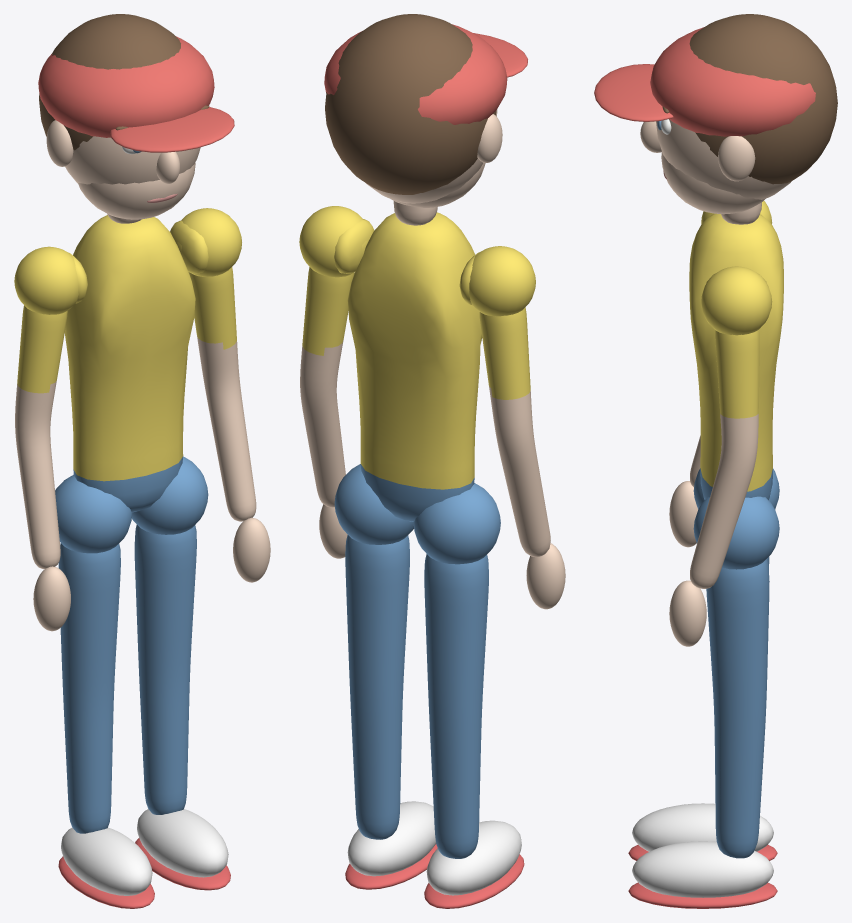
The model's file is kid.glb.
The picture shows the model from 3 angles, left to right: view 1: azimuth 30°, elevation 25°; view 2: azimuth 150°, elevation 25°; view 3: azimuth 270°, elevation 25°; orthographic projection. The views are drawn at different scales.
Parts seen in each view (by area): view 1: Body, Head, LegL, LegR, ArmL, ArmR; view 2: Body, Head, LegL, LegR, ArmL, ArmR; view 3: Head, LegR, ArmR, Body, LegL, ArmL.
Part boxes in pixels (<box>): Body: <box>64,215,208,512</box>; Head: <box>38,14,234,223</box>; LegL: <box>55,474,154,908</box>; LegR: <box>131,456,230,890</box>; ArmL: <box>14,246,78,631</box>; ArmR: <box>175,208,270,582</box>; Body: <box>334,212,482,521</box>; Head: <box>324,14,527,225</box>; LegL: <box>413,483,524,908</box>; LegR: <box>334,464,437,889</box>; ArmL: <box>469,246,565,609</box>; ArmR: <box>299,206,368,558</box>; Head: <box>594,14,837,224</box>; LegR: <box>628,496,779,908</box>; ArmR: <box>669,266,772,646</box>; Body: <box>689,213,783,500</box>; LegL: <box>628,468,779,860</box>; ArmL: <box>669,201,772,547</box>.
Size of the model in its own units: 7.34 by 25.36 by 6.52.
